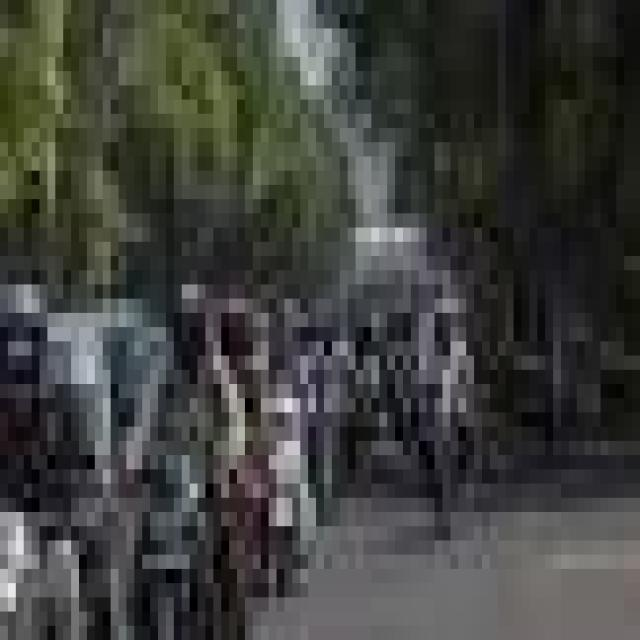bike: (229, 369, 332, 612), (134, 441, 245, 640), (0, 469, 95, 640), (411, 370, 490, 554)
